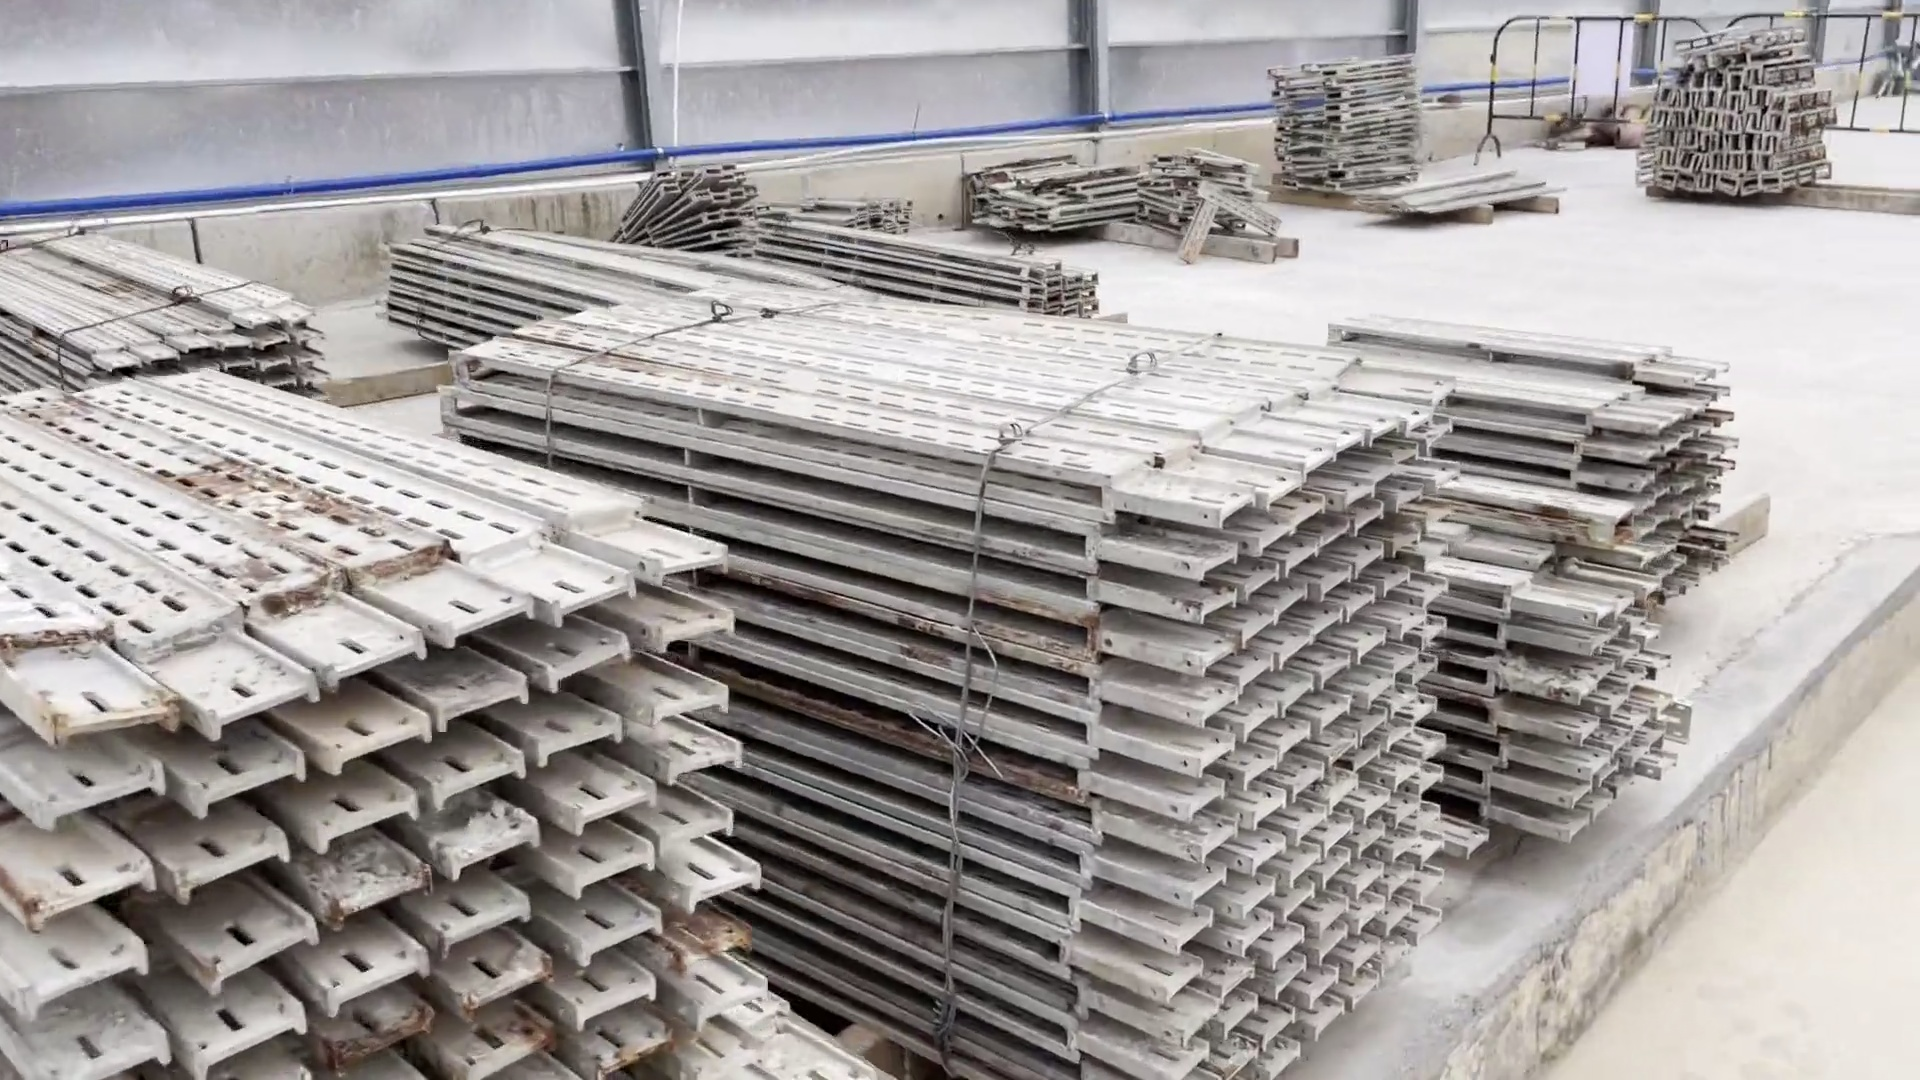fence: (1481, 12, 1919, 181)
